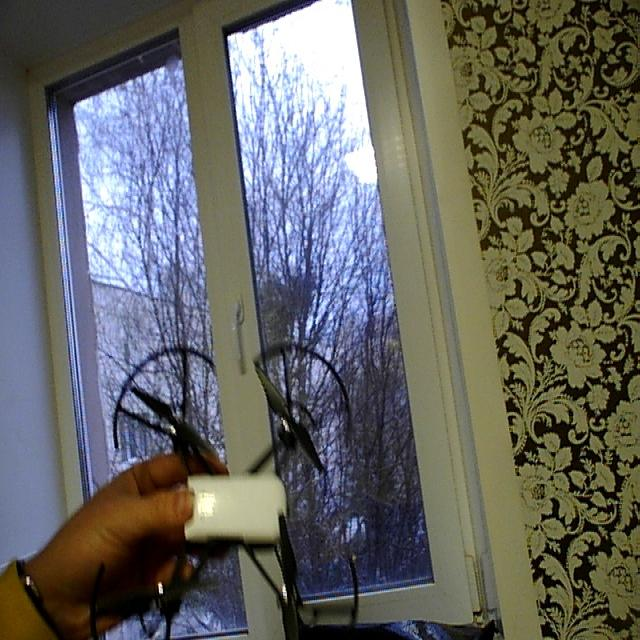drone: (83, 334, 373, 640)
